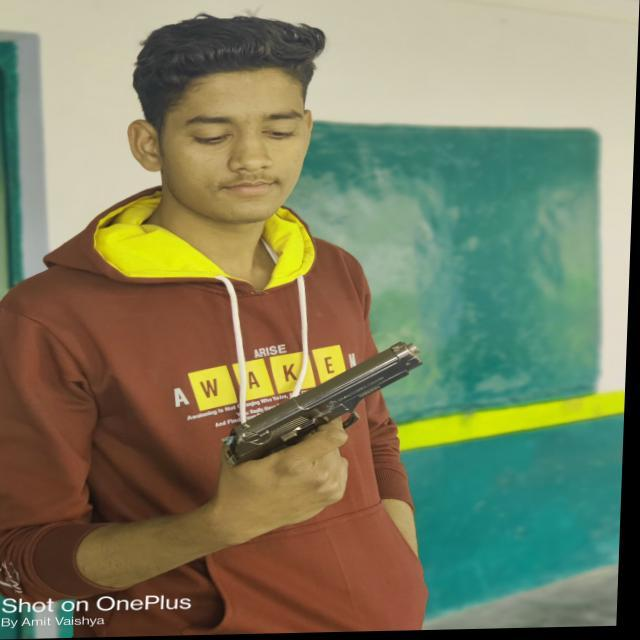weapon: (215, 339, 436, 520)
